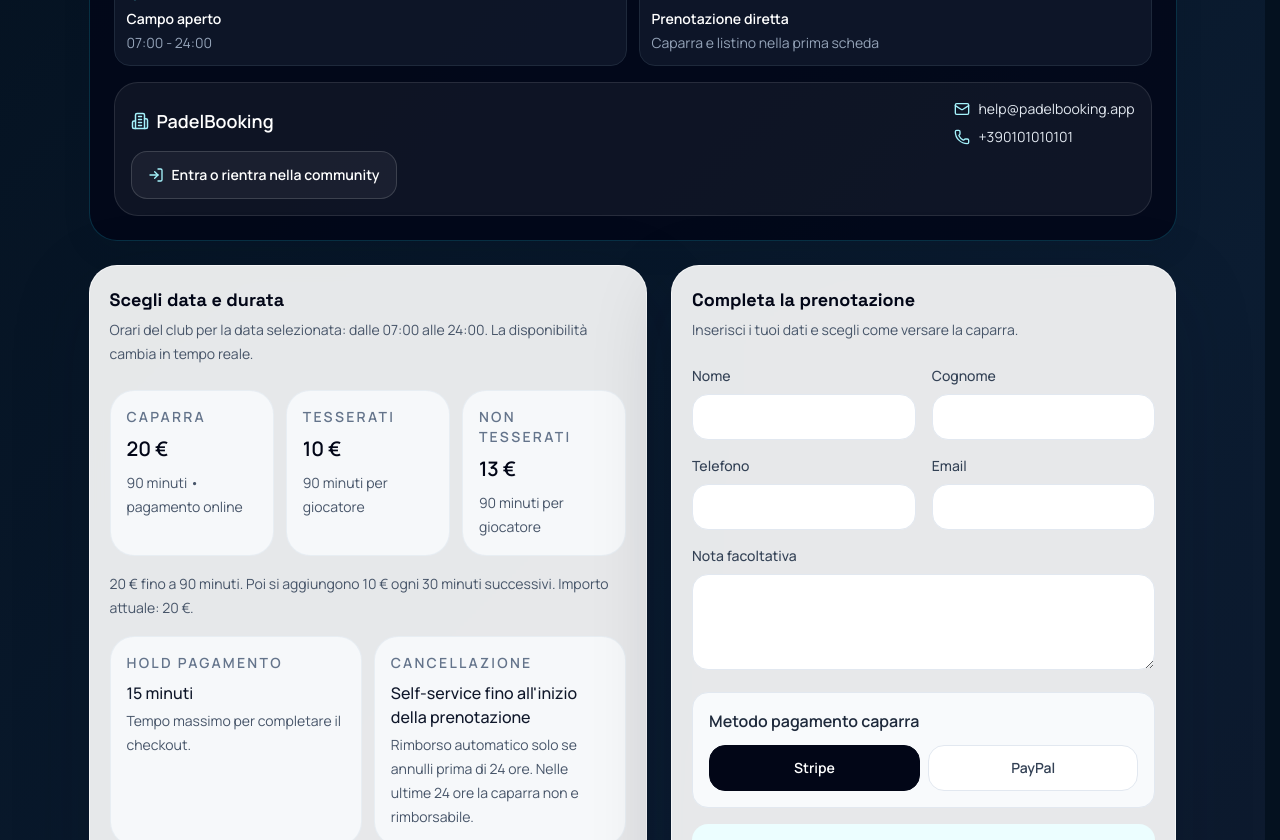
it: PublicBookingPage › surfaces backend detail messages when booking creation fails
(page scrolled)
Step 1. Type "Luca" into the field labelled "Nome" → (804, 417), box x1=692 y1=394 x2=916 y2=440
Step 2. Type "Bianchi" into the field labelled "Cognome" → (1044, 417), box x1=932 y1=394 x2=1156 y2=440
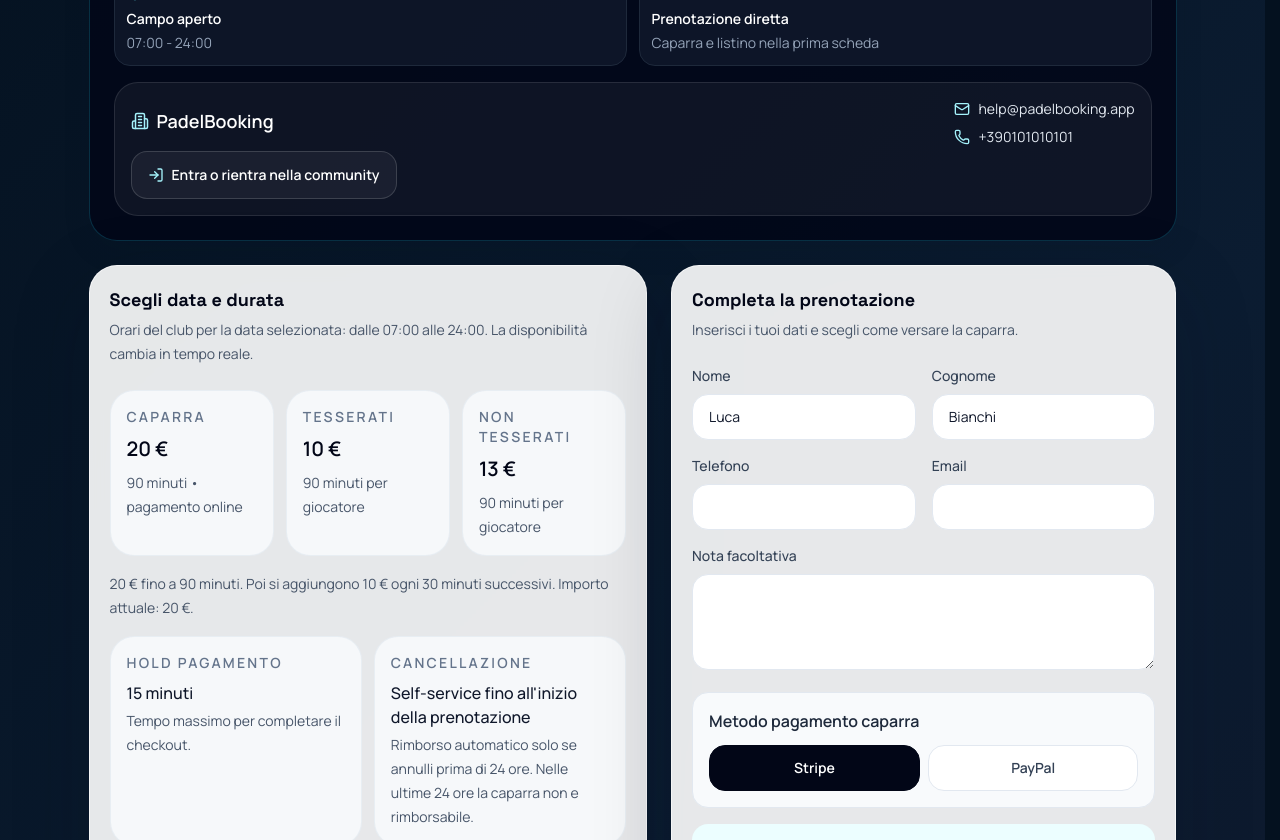
Step 3. Type "3331112222" into the field labelled "Telefono" → (804, 507), box x1=692 y1=484 x2=916 y2=530
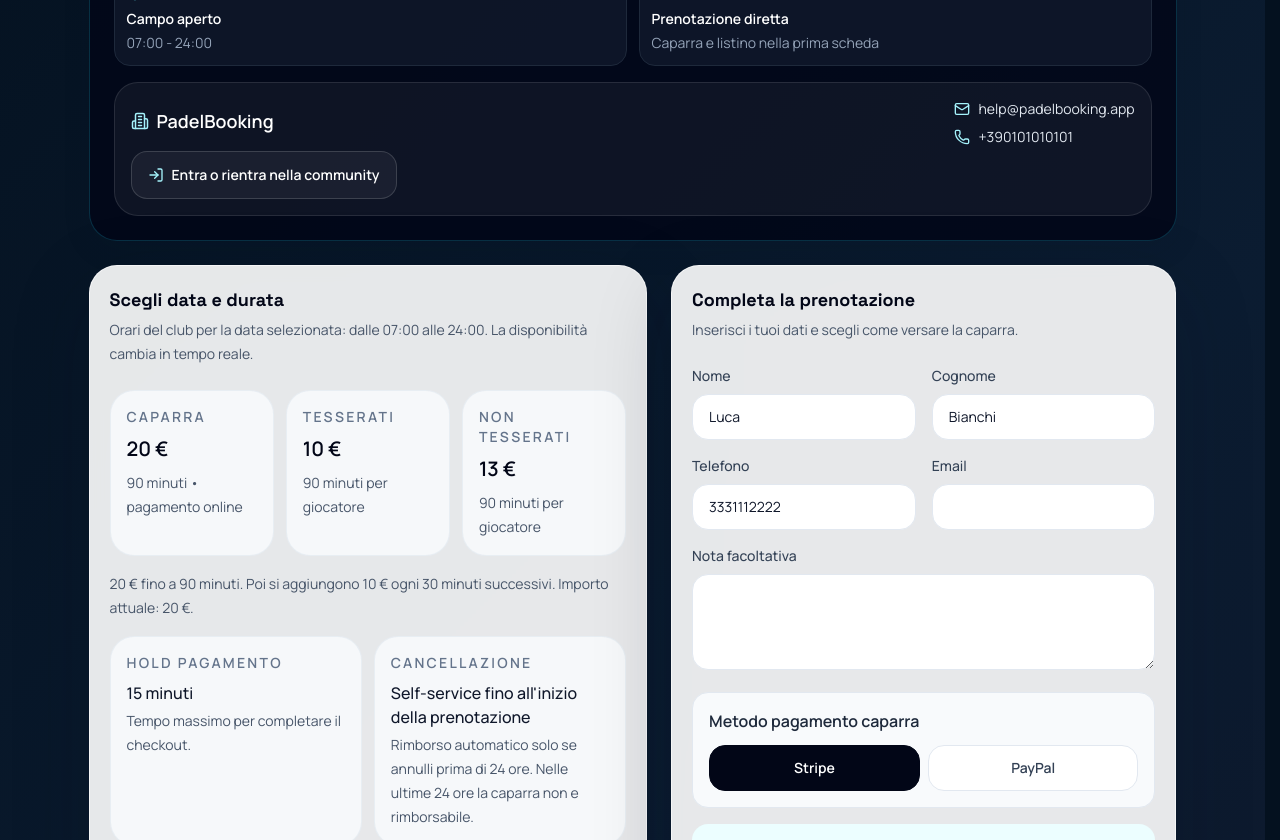
Step 4. Type "luca@example.com" into the field labelled "Email" → (1044, 507), box x1=932 y1=484 x2=1156 y2=530
(page scrolled)
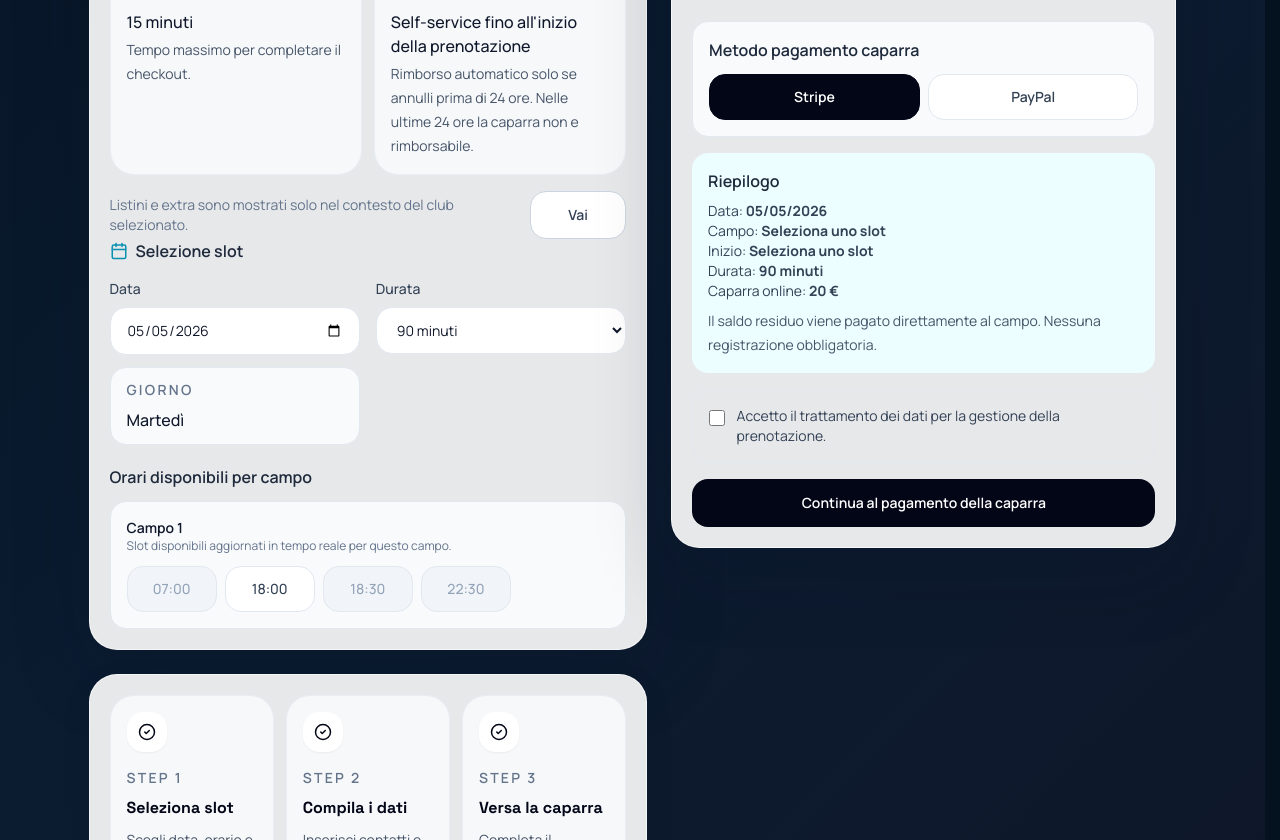
Step 5. Click the checkbox labelled "Accetto il trattamento dei dati per la gestione della prenotazione." → (717, 418), box x1=709 y1=410 x2=725 y2=426
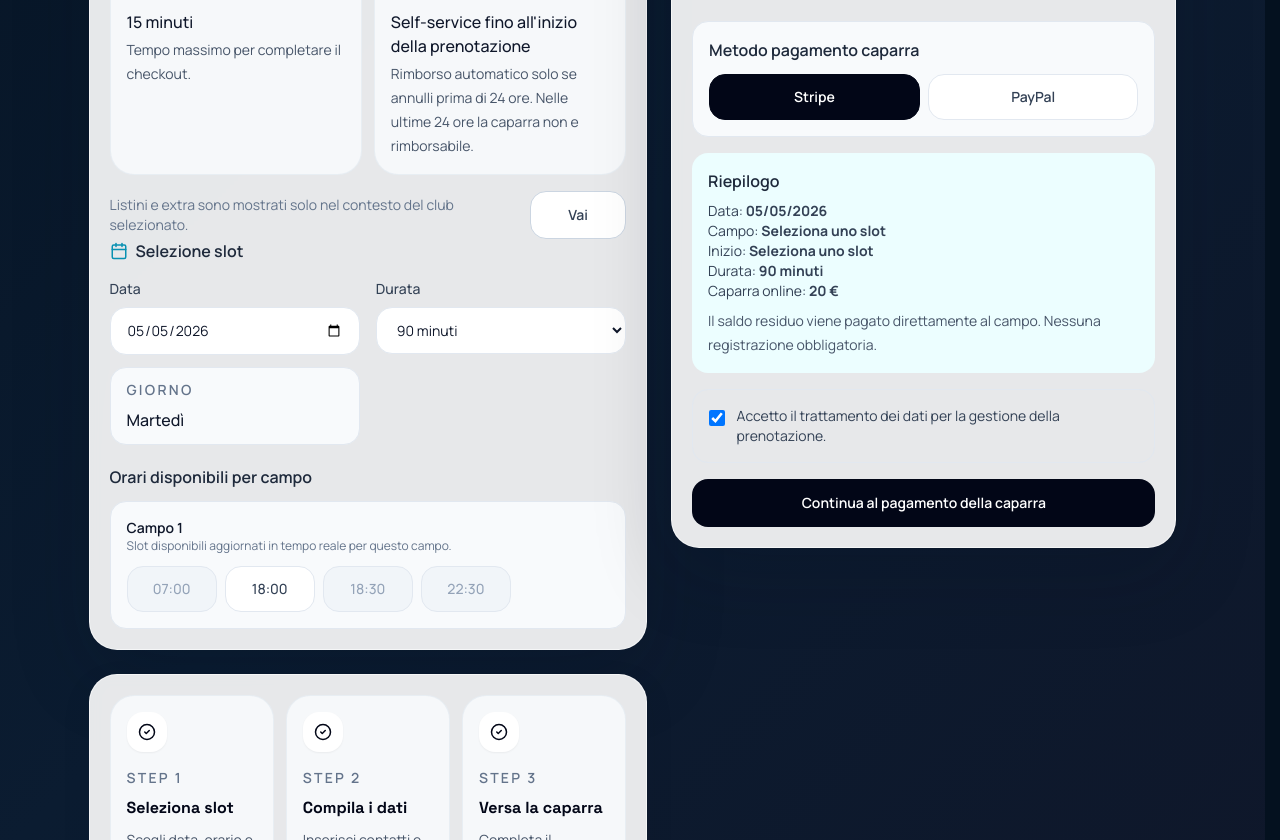
Step 6. Click the button "18:00" → (270, 589), box x1=225 y1=566 x2=315 y2=612
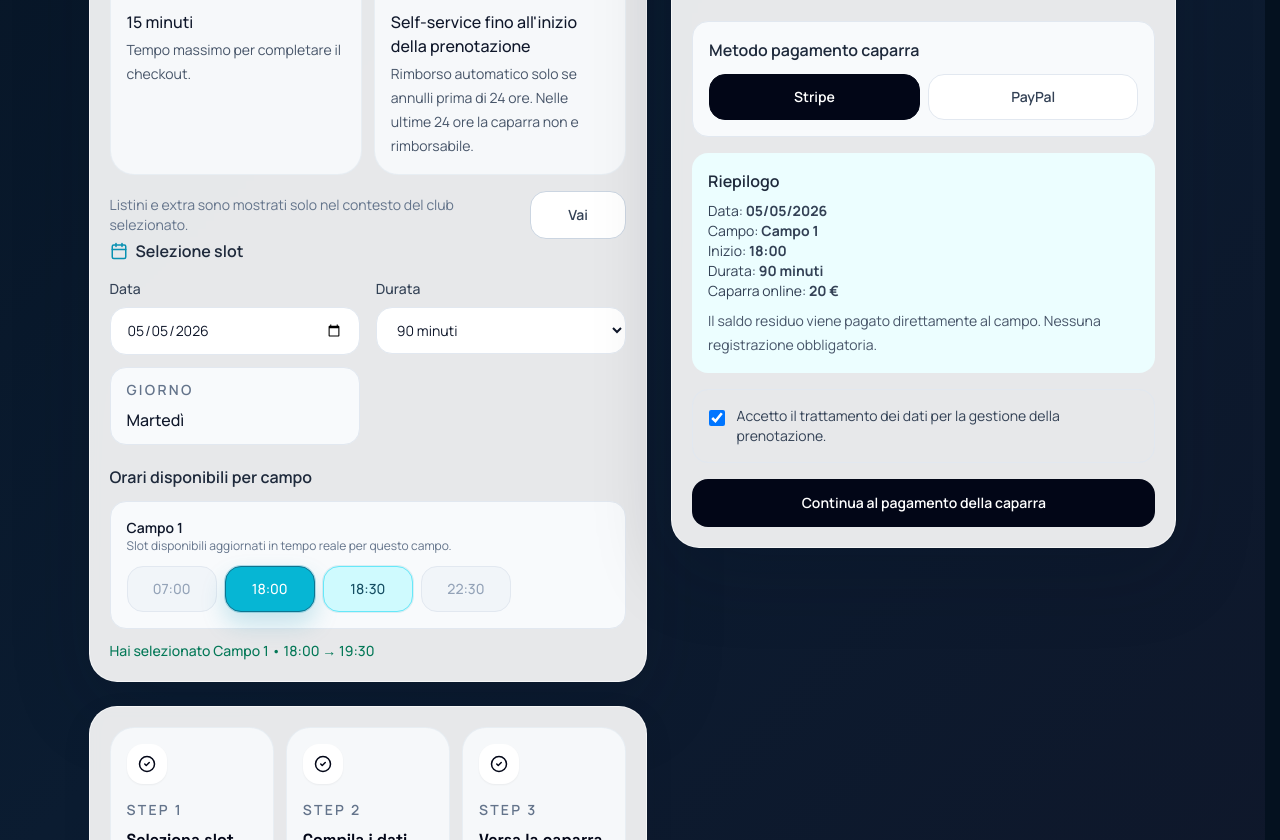
Step 7. Click the button "Continua al pagamento della caparra" → (924, 503), box x1=692 y1=479 x2=1156 y2=527
(page scrolled)
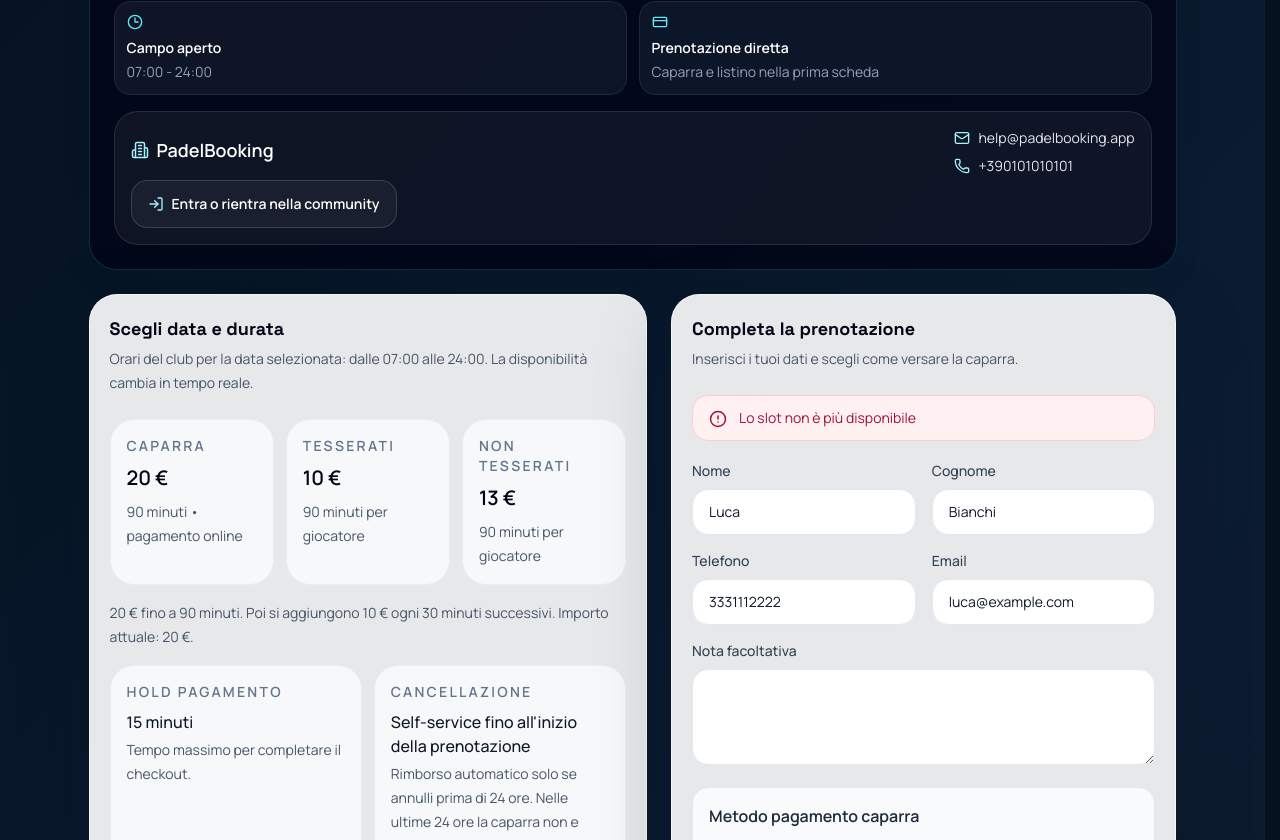
Result: the text "Lo slot non è più disponibile" is shown at x1=739 y1=408 x2=916 y2=428
